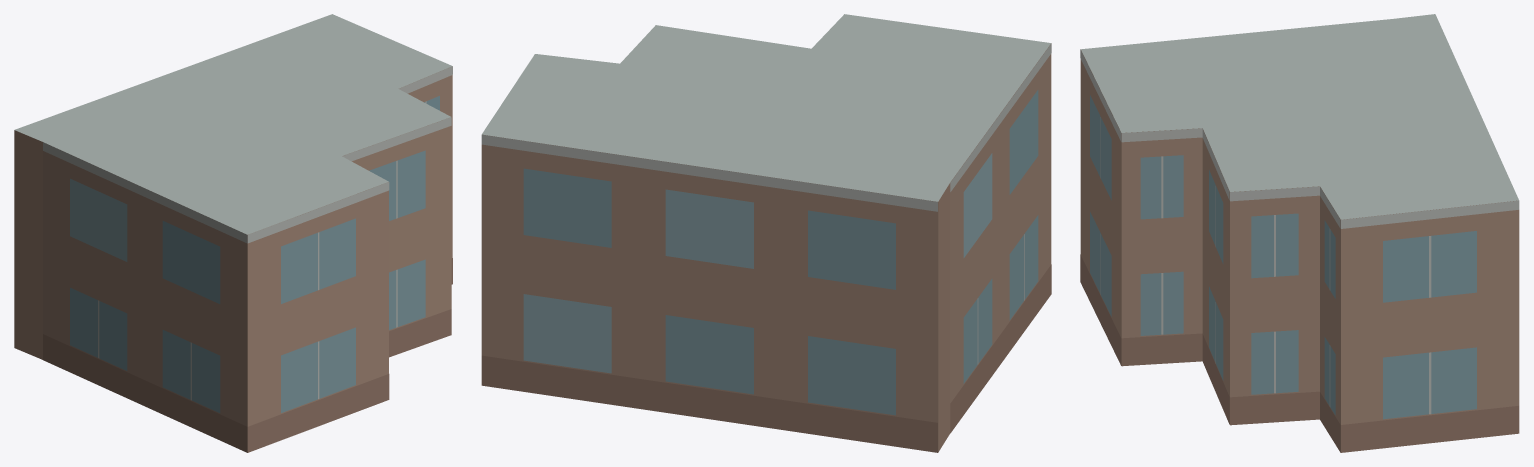
Rendered from survey-upis-32909600.glb.
3 views of the same model, side by side, from view 1: azimuth 30°, elevation 25°; view 2: azimuth 150°, elevation 25°; view 3: azimuth 270°, elevation 25° (orthographic). The views are drawn at different scales.
Visible parts, largest first — view 1: survey-upis-32909600.tmp; view 2: survey-upis-32909600.tmp; view 3: survey-upis-32909600.tmp.
Part boxes in pixels (x1,y1,x2,y2): survey-upis-32909600.tmp: (14,14,452,452); survey-upis-32909600.tmp: (481,14,1051,452); survey-upis-32909600.tmp: (1080,14,1519,452).
Size of the model in its own units: 11.56 by 6.1 by 10.41.
